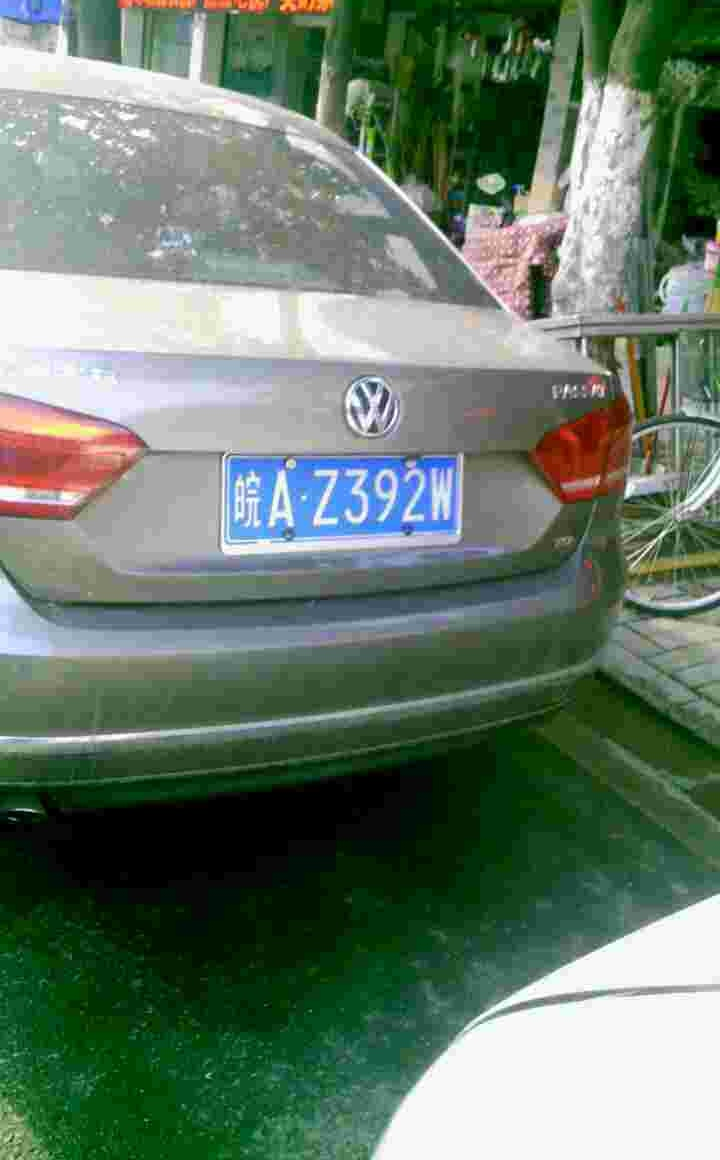plate: (234, 447, 469, 545)
